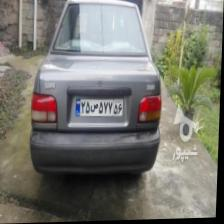plate: (77, 97, 125, 115)
